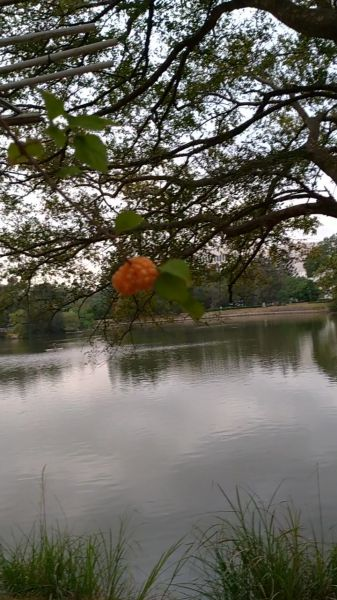eggs: (106, 248, 163, 297)
